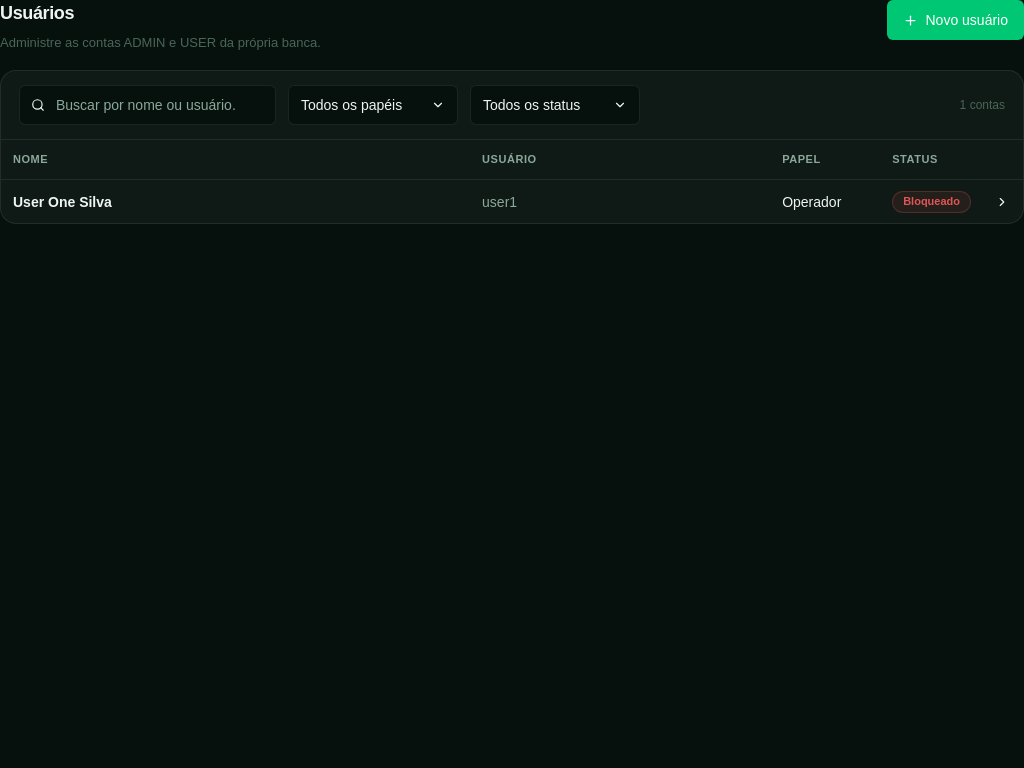
Test: UsuariosSection — linha clicável/teclável abre o drawer de detalhe › clique na linha abre o drawer com o detalhe da conta
The width and height of the screenshot is (1024, 768).
What coordinates should you click on to do the following:
click the row named "abrir detalhes de user one silva"
I would click on:
 (512, 201)
Its box is [1,180,1023,223].
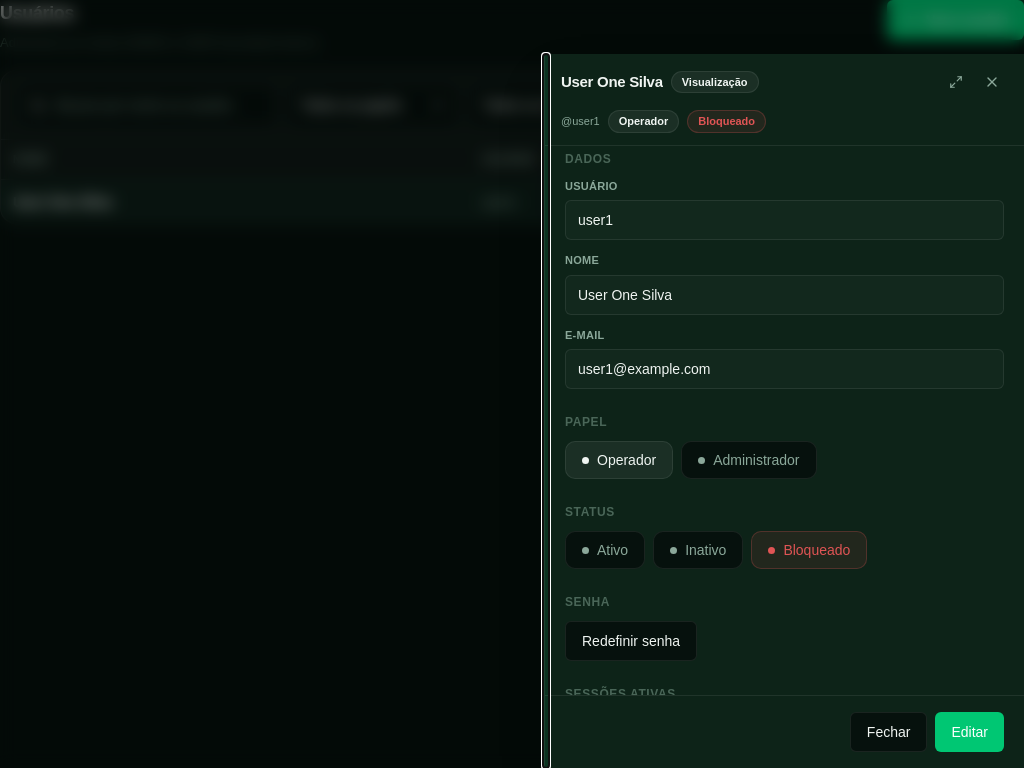
Now the heading "User One Silva" is shown, box [561,71,663,93]
